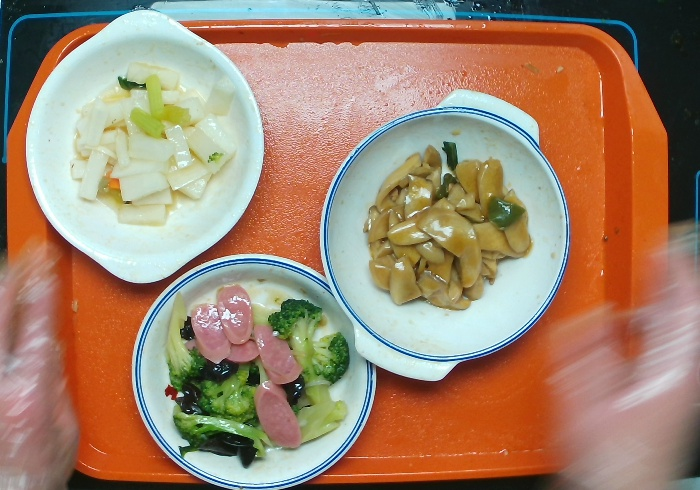HZYJPL-Dai_Er_Bai_Yuan_Wan: (24, 7, 264, 288)
HZYJPL-Lan_Bian_Dai_Er_Wan: (319, 88, 572, 386)
HZYJPL-Lan_Bian_Yuan_Die: (130, 250, 382, 490)
